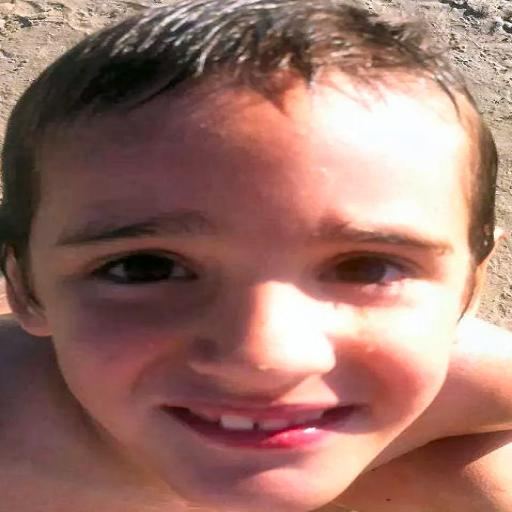Autism: (20, 18, 512, 511)
